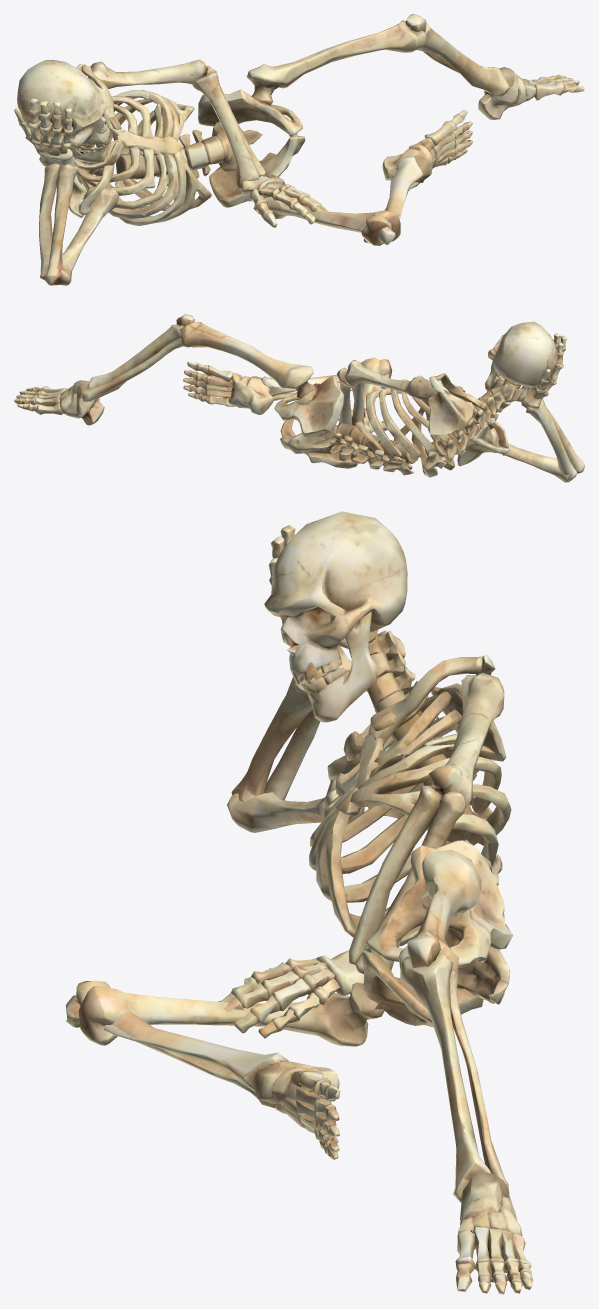
3 views of the same model, one above another, from view 1: azimuth 30°, elevation 25°; view 2: azimuth 150°, elevation 25°; view 3: azimuth 270°, elevation 25° (orthographic). The views are drawn at different scales.
Parts seen in each view (by area): view 1: SM_Skeleton_03_v1_LOD0; view 2: SM_Skeleton_03_v1_LOD0; view 3: SM_Skeleton_03_v1_LOD0.
Boxes of the visible parts, bbox=[...] form: SM_Skeleton_03_v1_LOD0: bbox=[14, 14, 584, 285]; SM_Skeleton_03_v1_LOD0: bbox=[14, 314, 584, 482]; SM_Skeleton_03_v1_LOD0: bbox=[65, 511, 533, 1294].
Size of the model in its own units: 1.73 by 0.5697 by 0.6956.
Materials: 1 (1 with a texture image).
